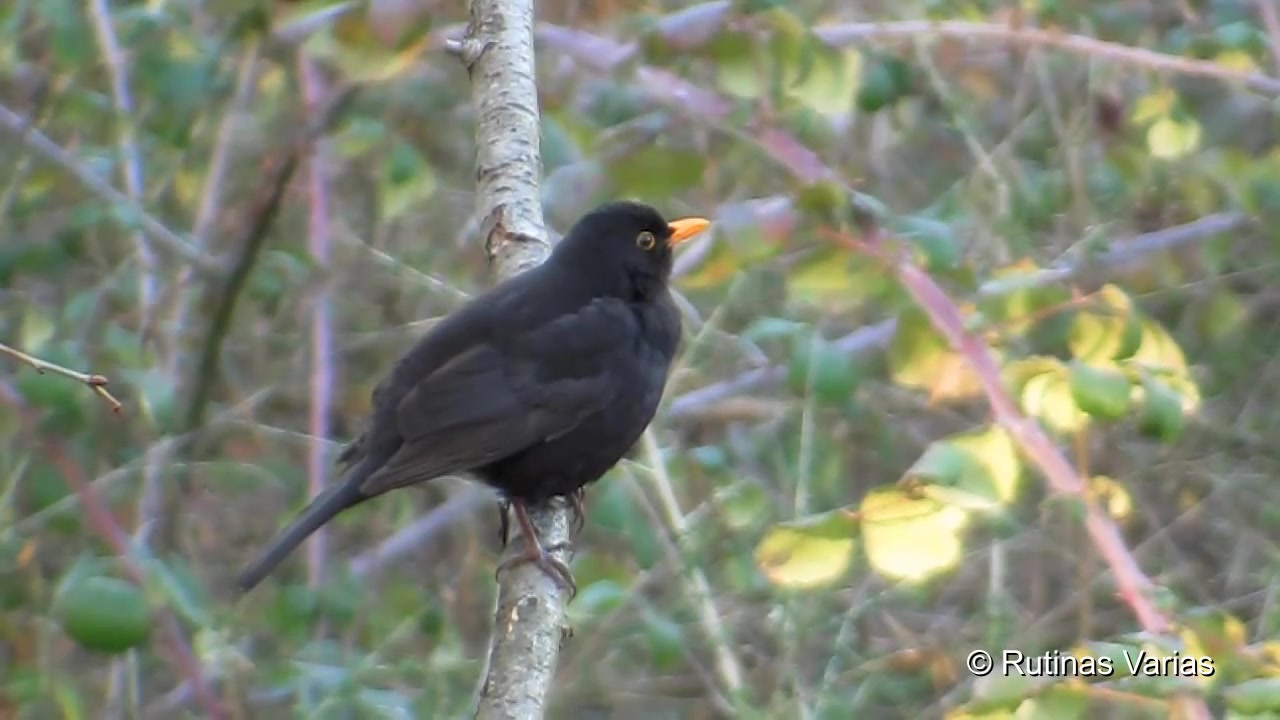bird: (233, 195, 712, 609)
